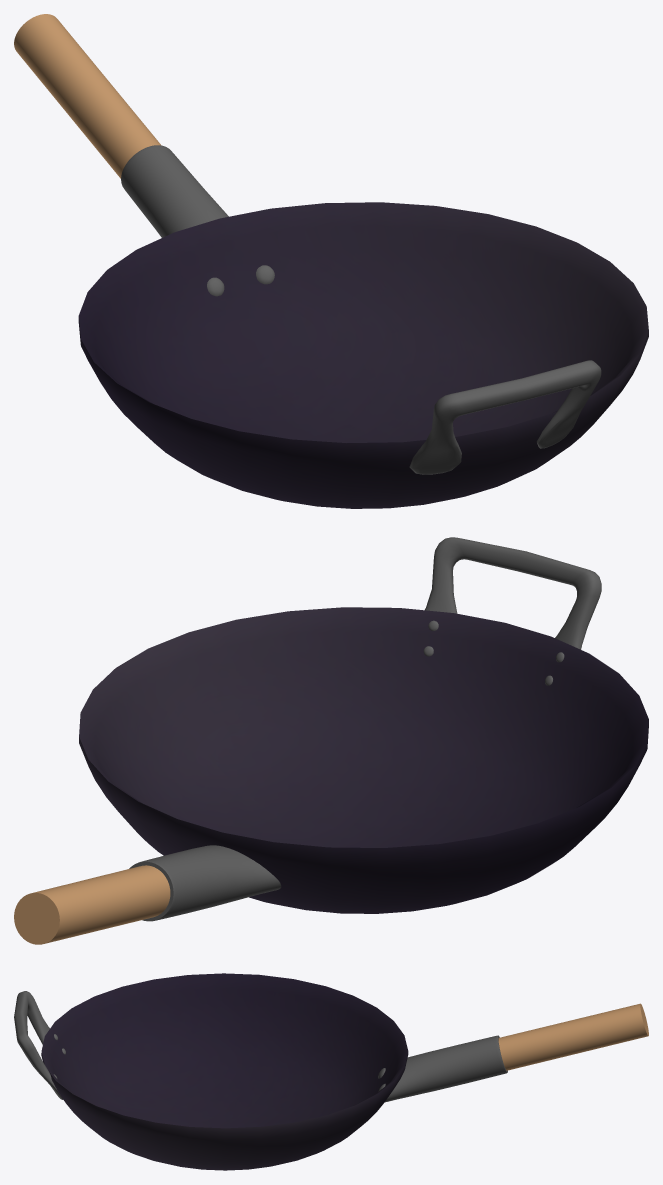
Rendered from wok_final 1.fbx.
3 views of the same model, one above another, from view 1: azimuth 30°, elevation 25°; view 2: azimuth 150°, elevation 25°; view 3: azimuth 270°, elevation 25° (orthographic). The views are drawn at different scales.
Visible parts, largest first — view 1: Wok_pan, wood_handle, opposite_handle, metal_handle; view 2: Wok_pan, wood_handle, opposite_handle, metal_handle; view 3: Wok_pan, wood_handle, metal_handle, opposite_handle.
Part boxes in pixels (bbox=[...]): Wok_pan: bbox=[78, 202, 648, 508]; wood_handle: bbox=[14, 14, 161, 178]; opposite_handle: bbox=[409, 360, 601, 474]; metal_handle: bbox=[121, 145, 228, 237]; Wok_pan: bbox=[79, 607, 648, 913]; wood_handle: bbox=[14, 865, 170, 944]; opposite_handle: bbox=[425, 537, 601, 649]; metal_handle: bbox=[129, 845, 281, 921]; Wok_pan: bbox=[41, 973, 408, 1170]; wood_handle: bbox=[498, 1003, 648, 1070]; metal_handle: bbox=[385, 1035, 507, 1102]; opposite_handle: bbox=[14, 991, 62, 1099].
Size of the model in its own units: 368 by 213 by 88.67.
